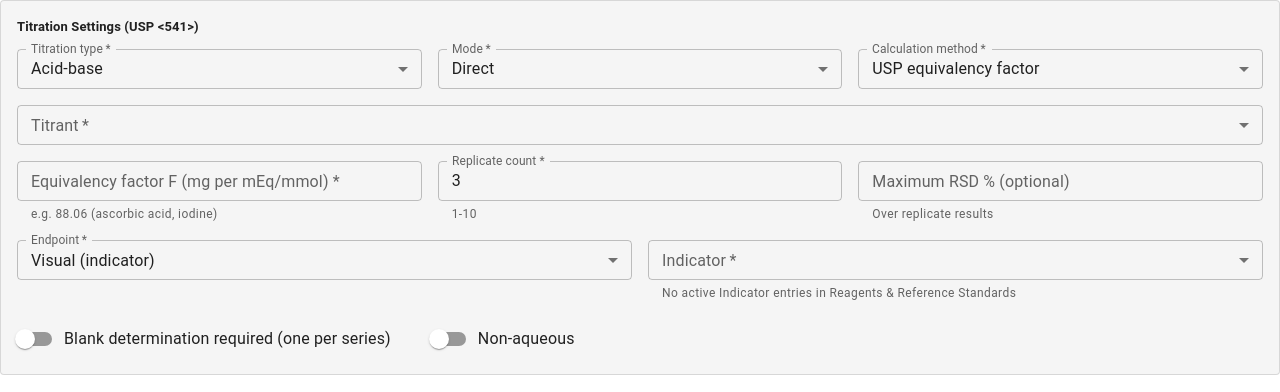
Test: TitrationConfigSection › picks the visual-endpoint indicator from the Indicator entries
Press the mouse on the dropdown named "Indicator" in the row of "Visual (indicator)" at (956, 260), box top-left (648, 240), bottom-right (1263, 280)
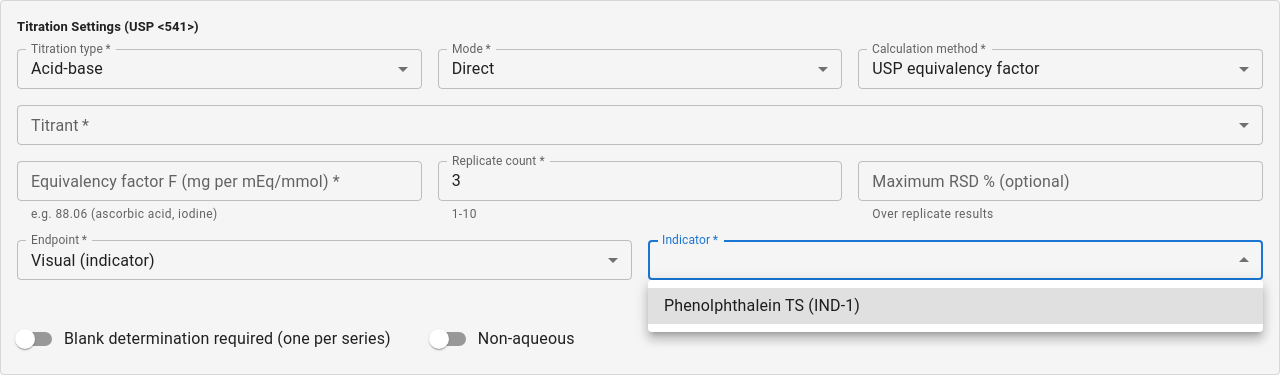
Now the option "Phenolphthalein TS (IND-1)" is shown, box top-left (648, 288), bottom-right (1263, 324)
